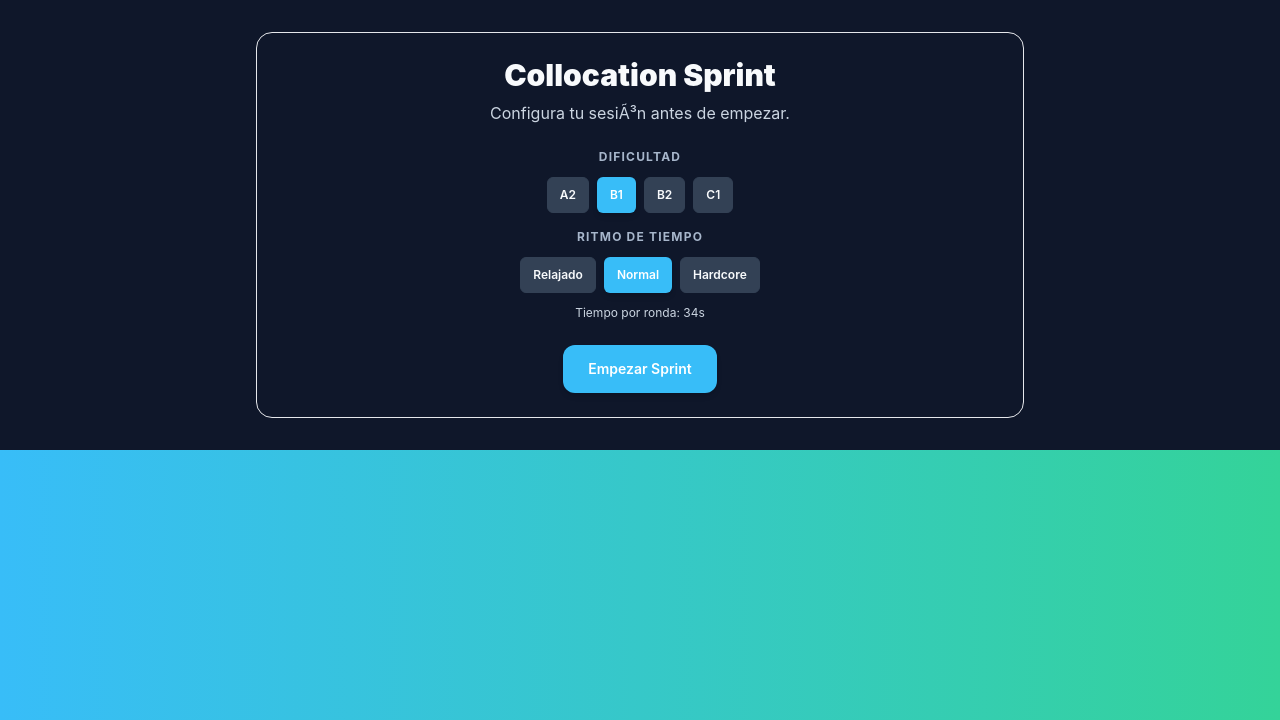
Test case: CollocationSprintView › validates correct pair
Click the button "Empezar Sprint". click: point(640, 369)
box: x1=563 y1=345 x2=717 y2=393
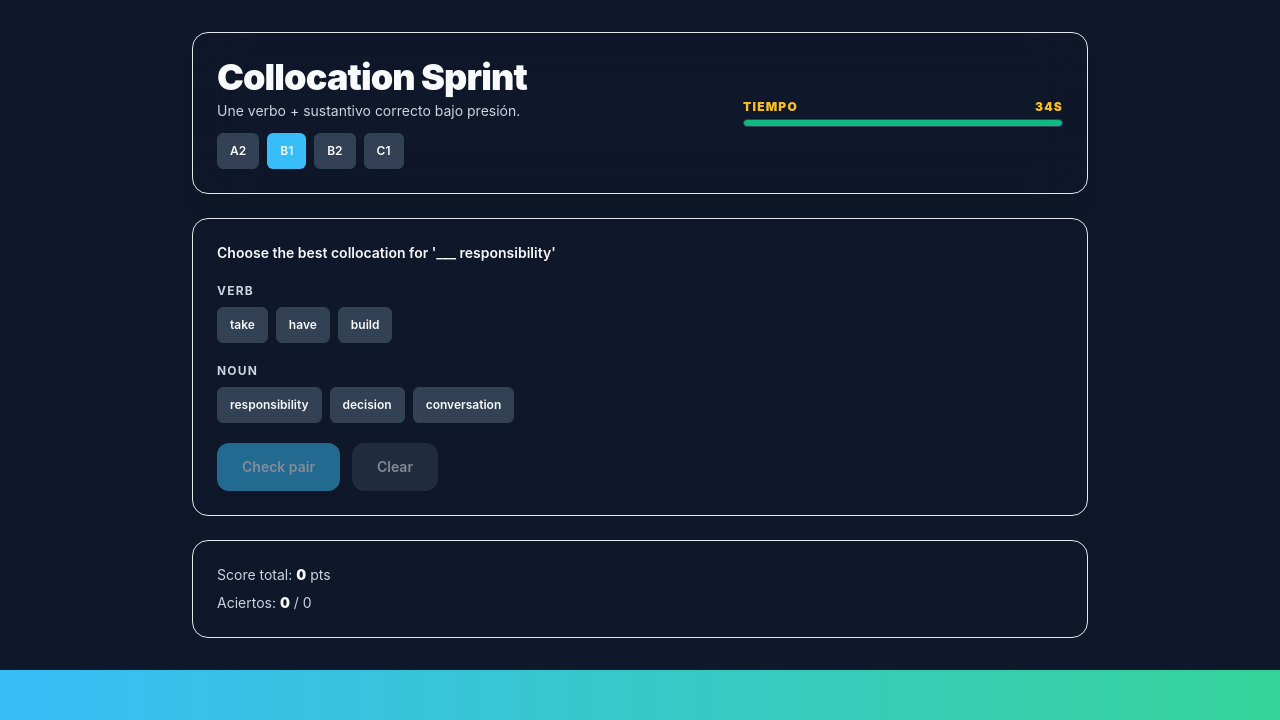
Click the button "take". click: point(242, 325)
box: x1=217 y1=307 x2=268 y2=343
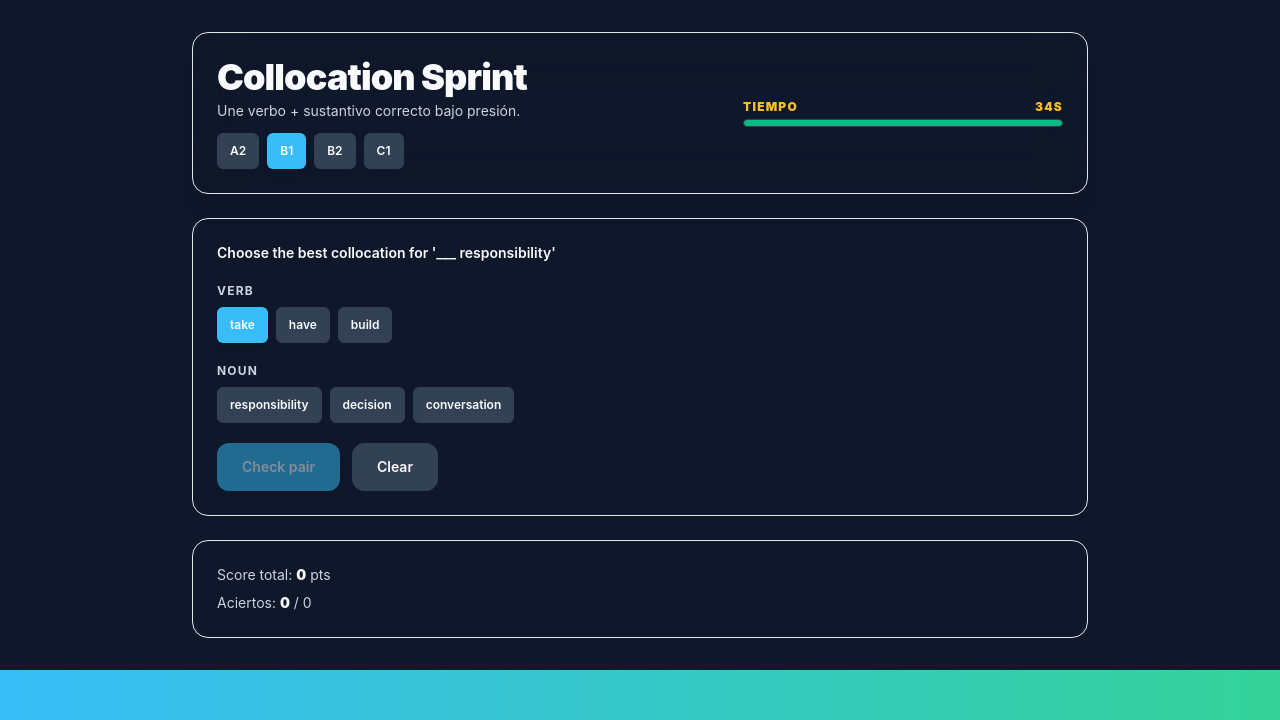
Click the button "responsibility". click: point(269, 405)
box: x1=217 y1=387 x2=322 y2=423
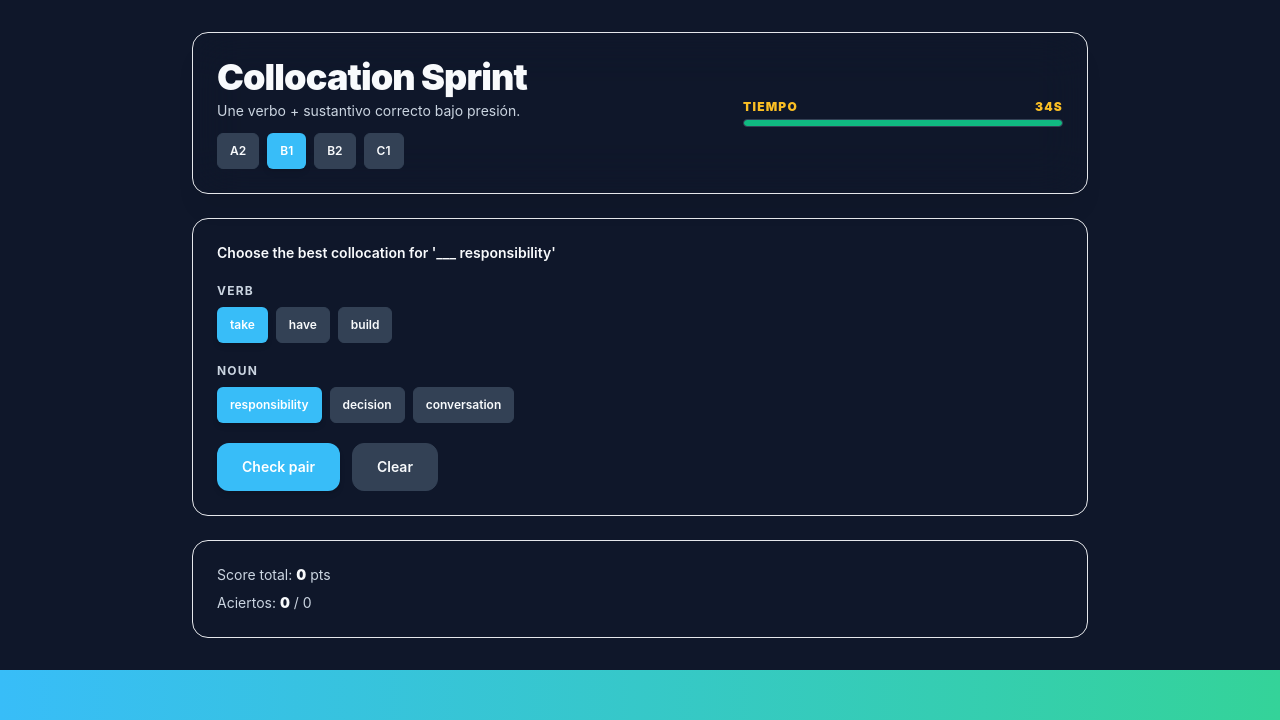
Click the button "Check pair". click: point(278, 467)
box: x1=217 y1=443 x2=340 y2=491
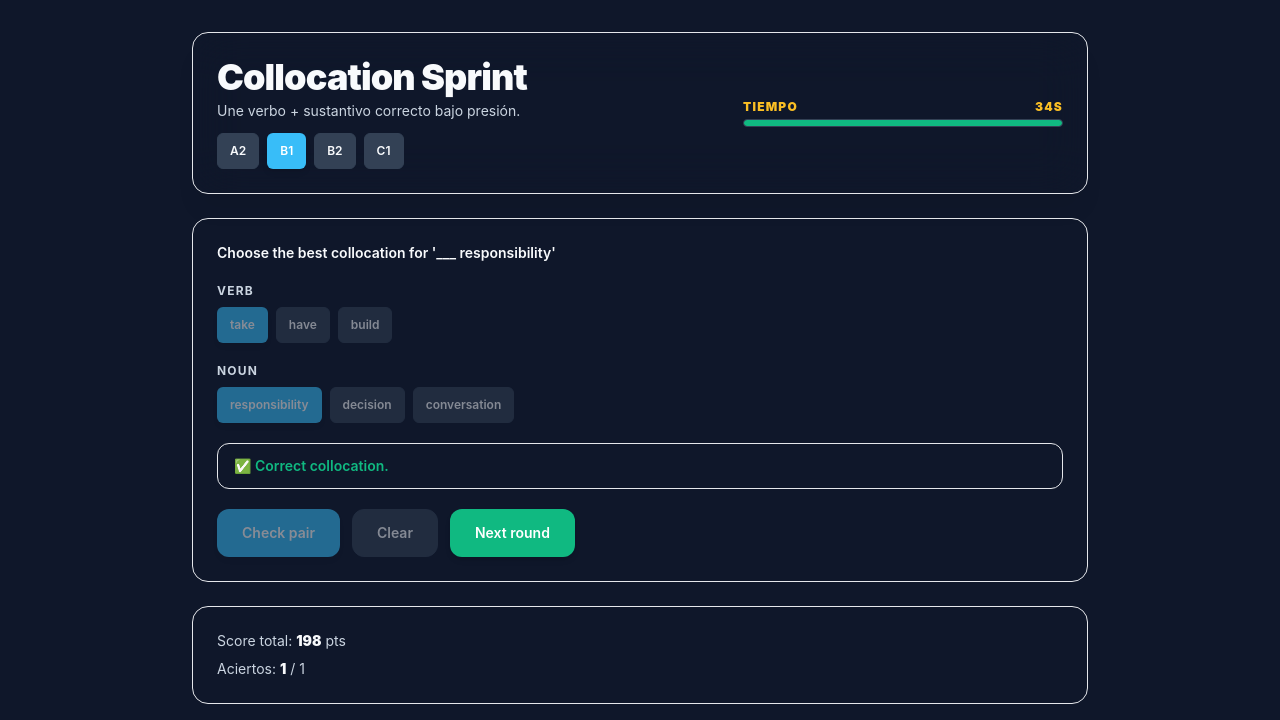
Check: the text "✅ Correct collocation." is shown, box x1=217 y1=443 x2=1063 y2=489
